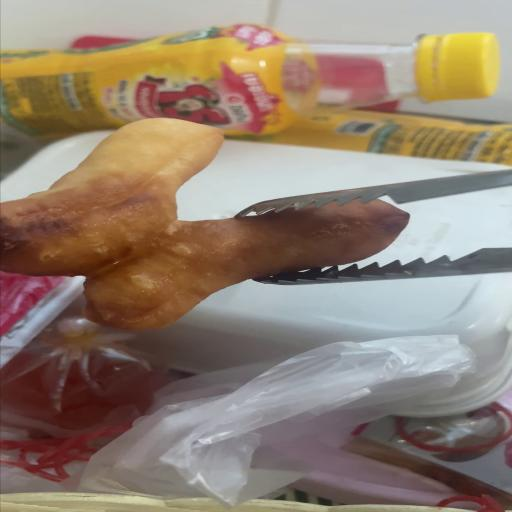street_burnt_good: (1, 118, 411, 328)
